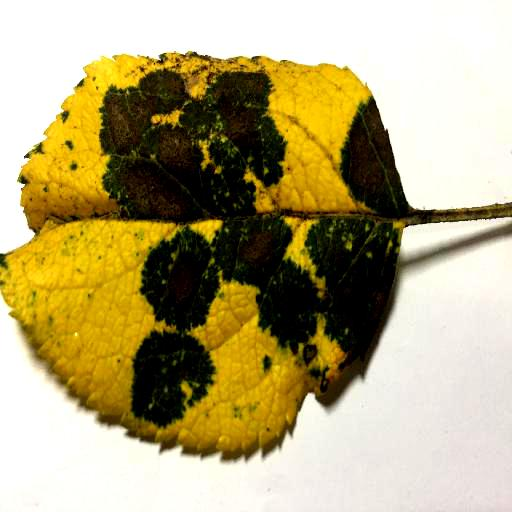Brown_Spot: (100, 70, 265, 210), (319, 237, 390, 357), (339, 109, 401, 210), (150, 251, 212, 316), (231, 226, 280, 277), (268, 281, 311, 338), (299, 343, 331, 384)
